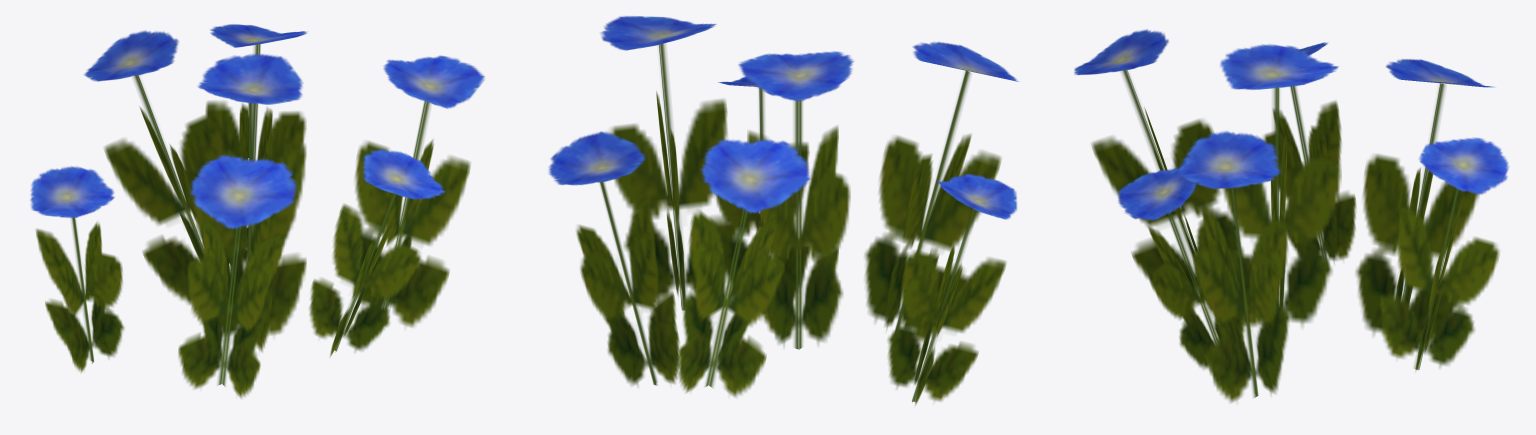
3 views of the same model, side by side, from view 1: azimuth 30°, elevation 25°; view 2: azimuth 150°, elevation 25°; view 3: azimuth 270°, elevation 25° (orthographic). The views are drawn at different scales.
Visible parts, largest first — view 1: um_t1_pl019_model_t1_pl019_modelShape; view 2: um_t1_pl019_model_t1_pl019_modelShape; view 3: um_t1_pl019_model_t1_pl019_modelShape.
Part boxes in pixels (left/top/right/bottom): um_t1_pl019_model_t1_pl019_modelShape: left=30, top=24, right=484, bottom=398; um_t1_pl019_model_t1_pl019_modelShape: left=548, top=16, right=1018, bottom=405; um_t1_pl019_model_t1_pl019_modelShape: left=1074, top=29, right=1509, bottom=402.
Size of the model in its own units: 0.649 by 0.4066 by 0.5662.
1 material, 1 textured.
